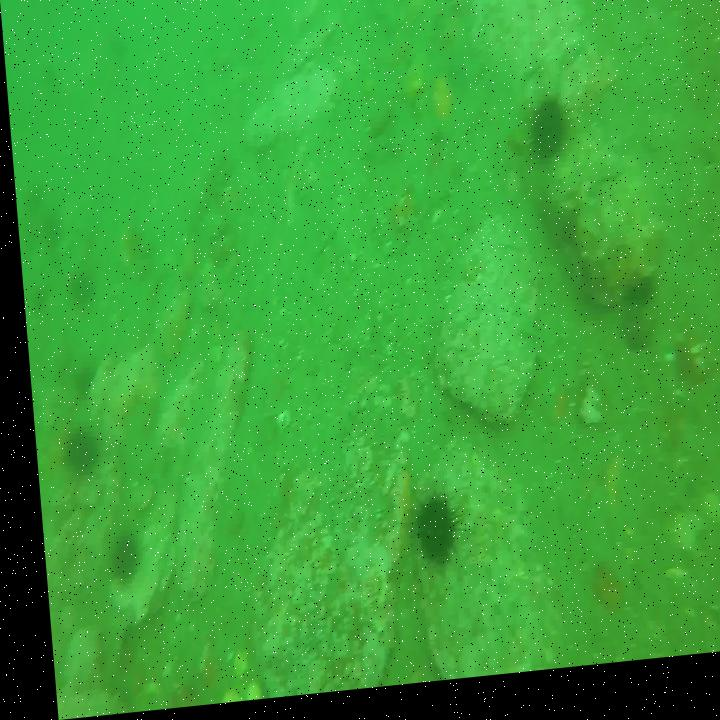echinus: (406, 504, 451, 569), (528, 111, 564, 169), (99, 529, 134, 588), (55, 429, 92, 483)
